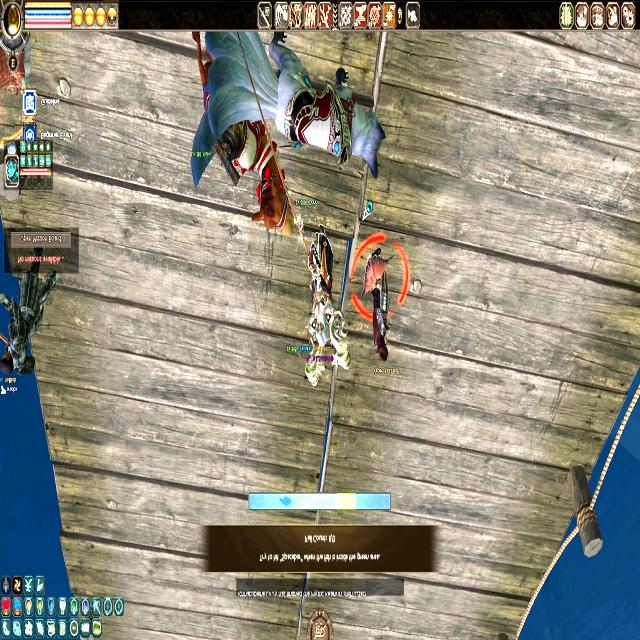fishes: (280, 495, 292, 509)
